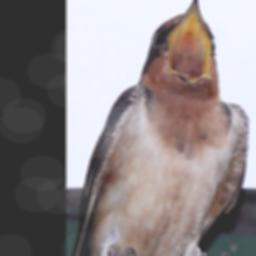Swallow: (73, 0, 250, 256)
